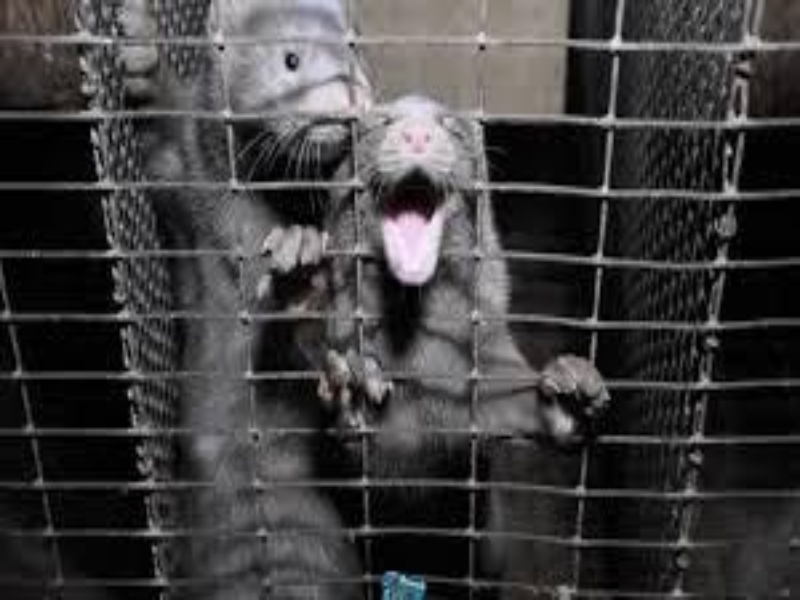minkish: (120, 1, 363, 600), (323, 100, 621, 575)
